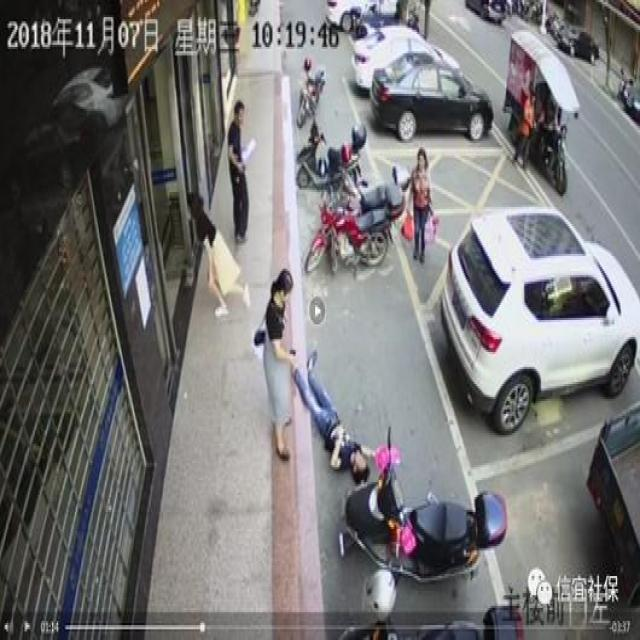fall: (290, 352, 374, 480)
